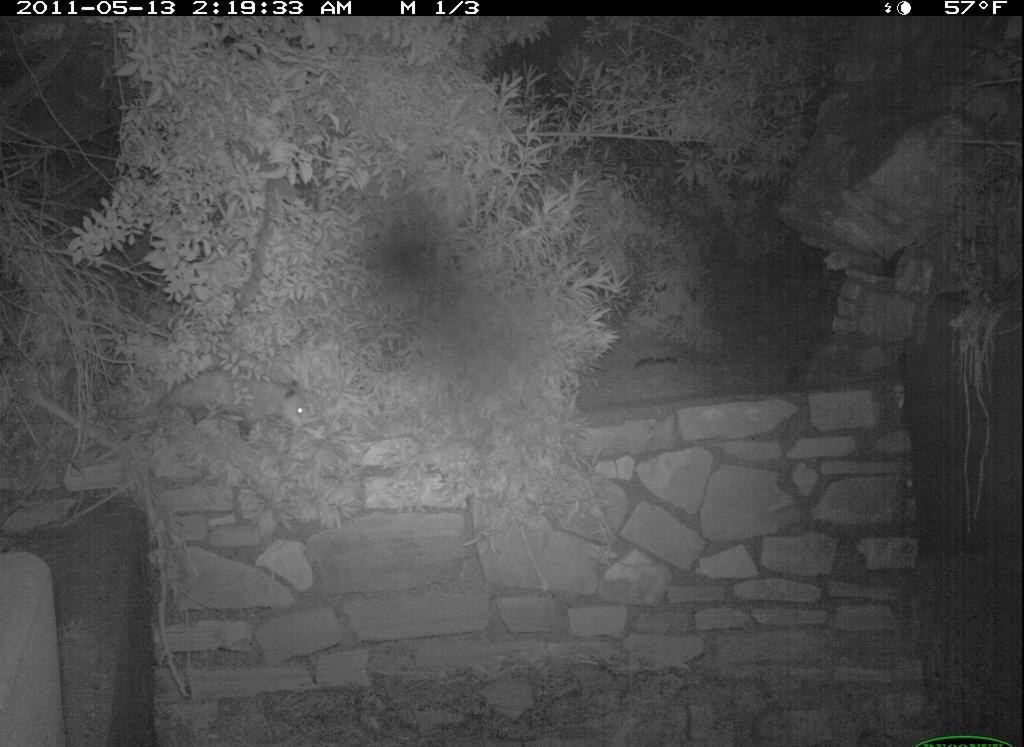opossum: (129, 360, 332, 447)
